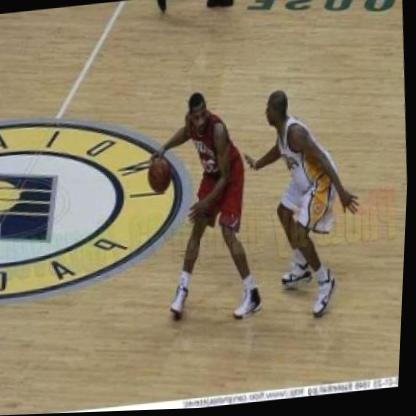basketball: (141, 149, 185, 198)
